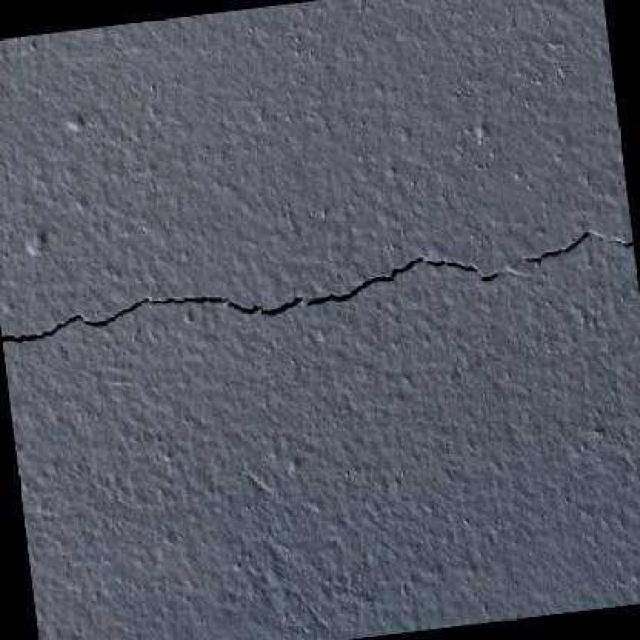D00: (0, 229, 633, 341)
